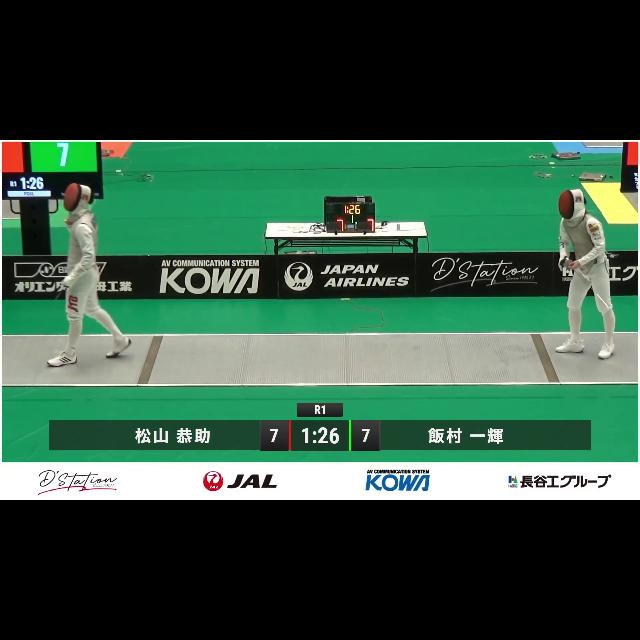blade: (560, 258, 614, 314), (52, 282, 70, 304)
